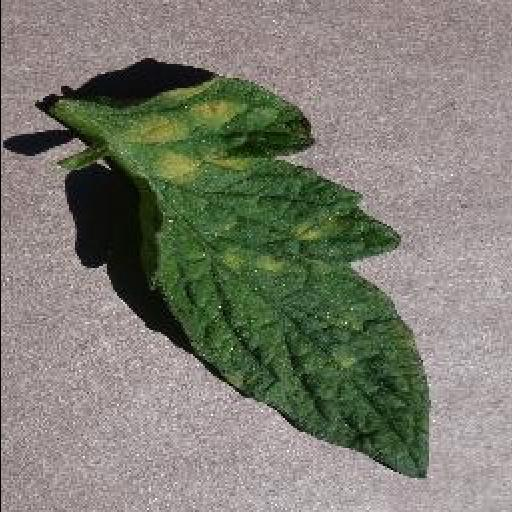disease_tomato: (130, 72, 430, 486)
